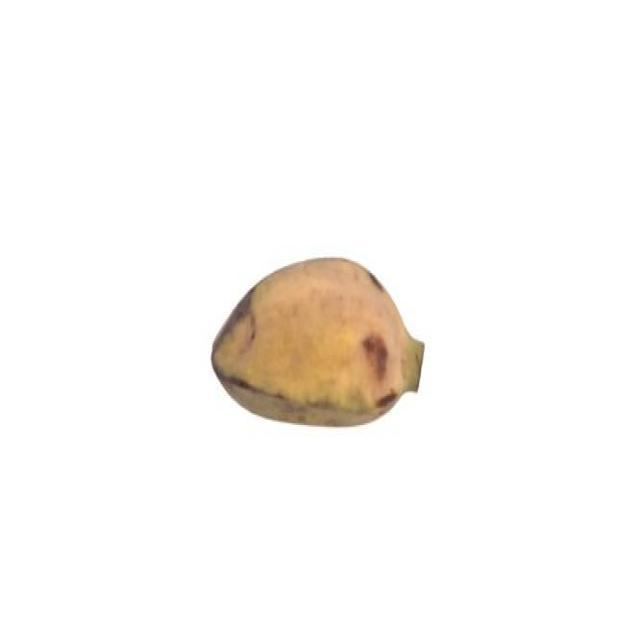banana: (209, 249, 428, 440)
